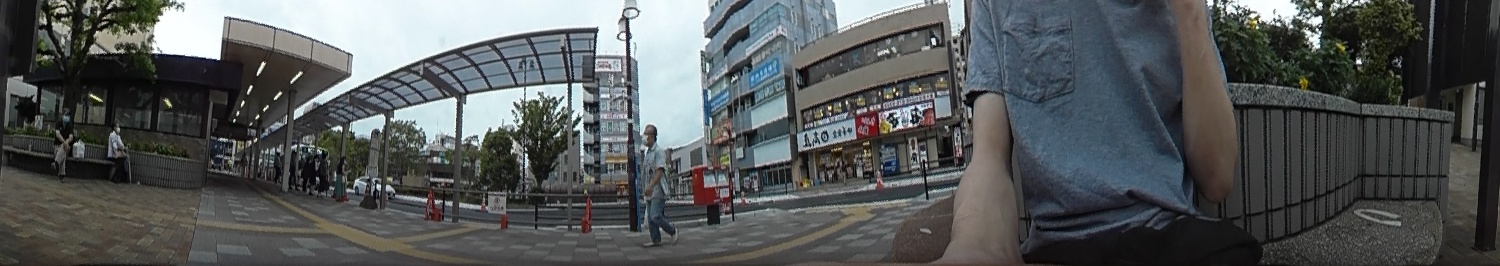difficult_person: (334, 156, 349, 202), (319, 148, 331, 196), (289, 149, 299, 193), (310, 152, 320, 195), (272, 152, 282, 185)
person: (639, 123, 676, 246), (106, 120, 134, 186), (54, 106, 75, 176)
